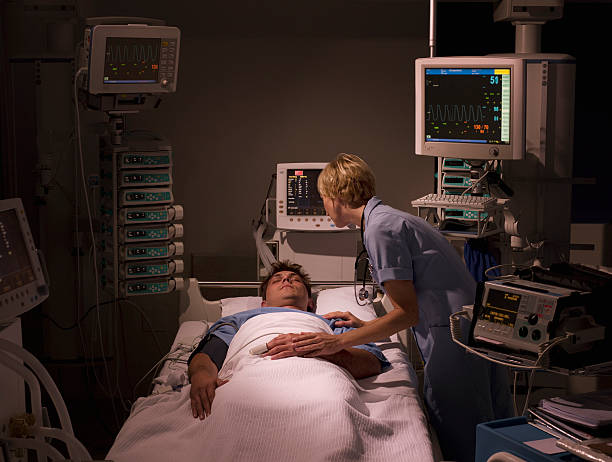bedside_monitor: (414, 57, 525, 159), (76, 17, 181, 95)
breathing_tube: (1, 339, 92, 461), (252, 223, 277, 273)
hospital_bed: (103, 277, 443, 462)
keyboard: (409, 190, 494, 207)
patient: (187, 259, 393, 462)
staff: (293, 156, 514, 462)
syringe_pump: (438, 158, 500, 195), (108, 275, 184, 297), (107, 260, 183, 282), (107, 240, 183, 262), (107, 206, 183, 228), (106, 166, 182, 188), (108, 187, 184, 209), (106, 148, 182, 170), (109, 222, 185, 243), (438, 171, 500, 190), (438, 205, 500, 221)
ventilator: (251, 162, 367, 296), (1, 198, 50, 461)
